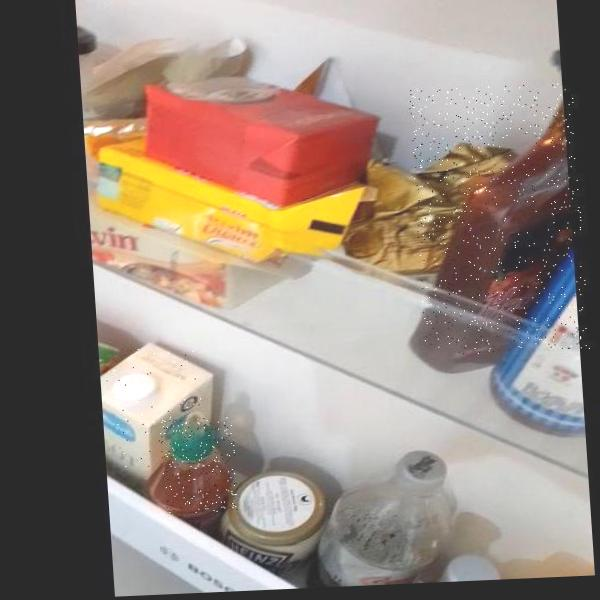butter: (85, 136, 322, 305)
milk: (103, 343, 206, 472)
sauce: (409, 83, 590, 356), (159, 416, 239, 514)
